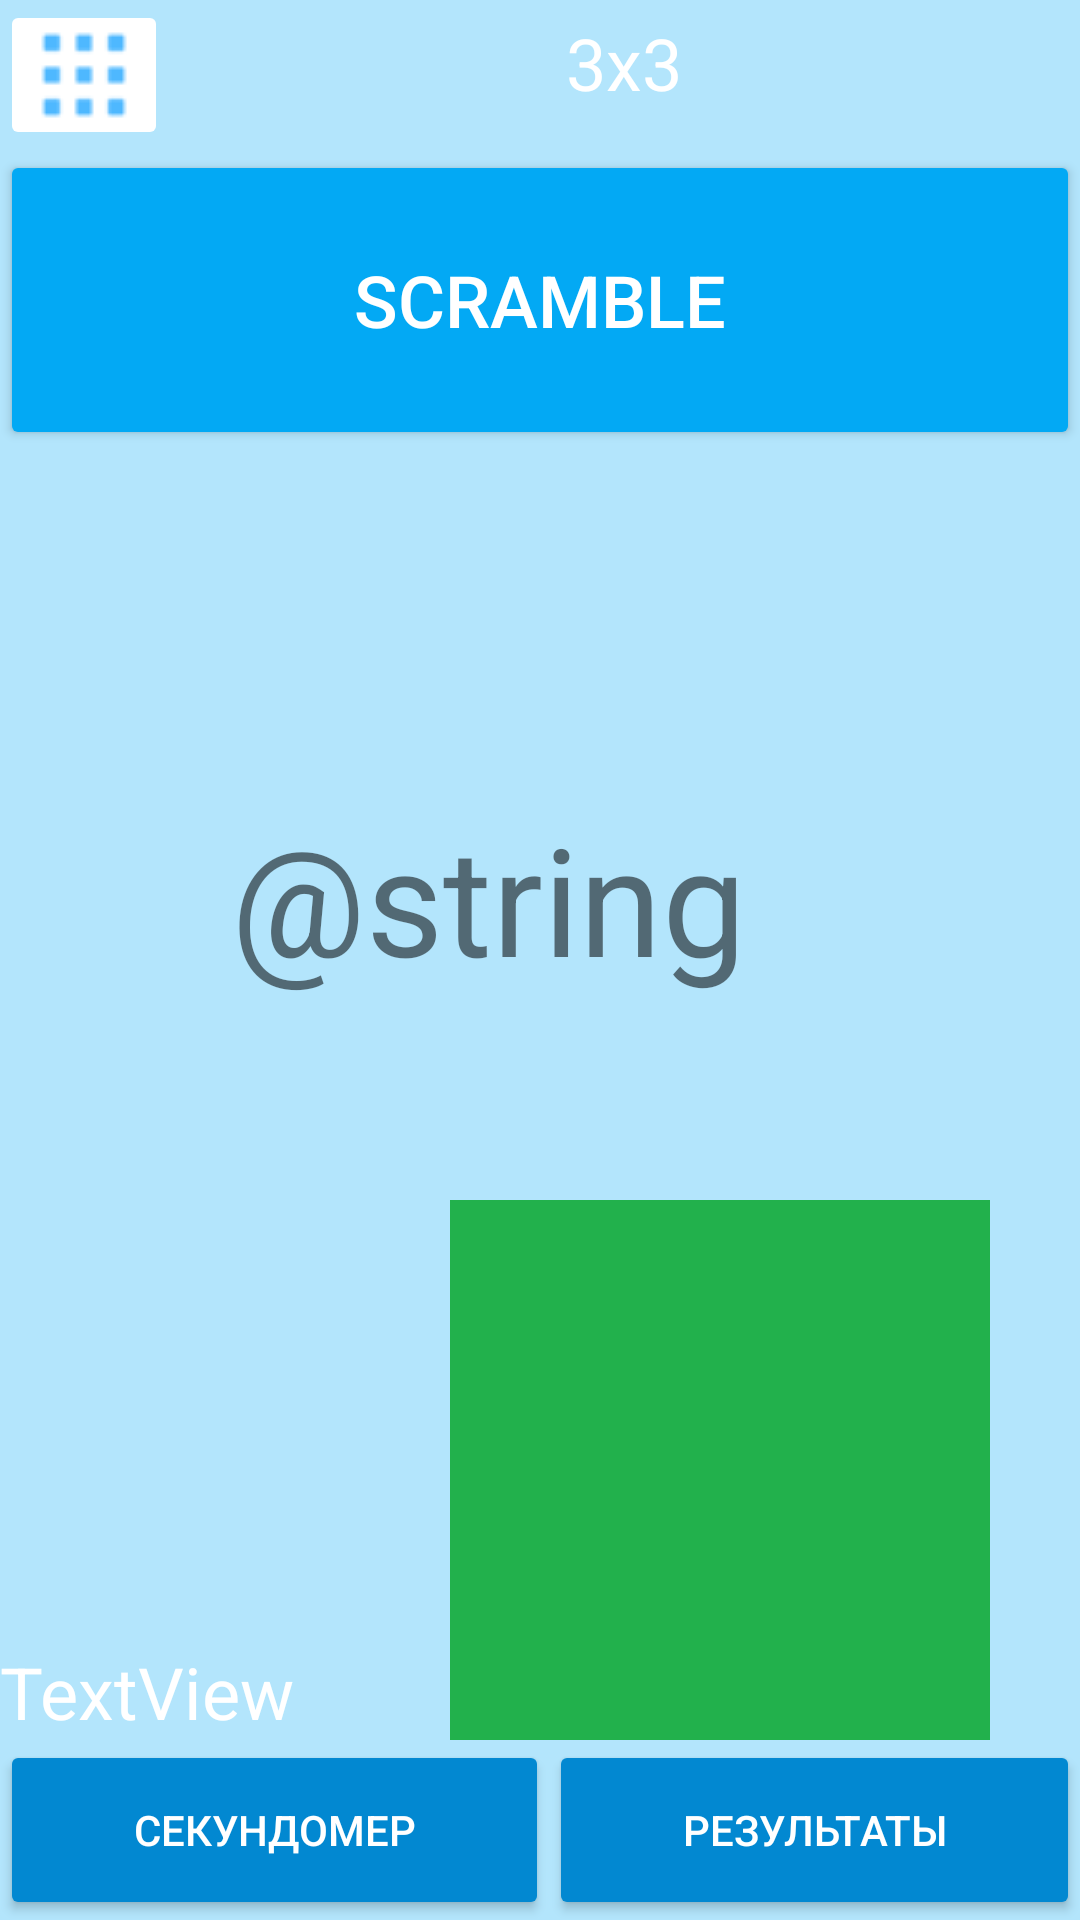

Locate icon controls on the screen. Image size 1080w x 1920h, boxes as Rect(x1, y1, x2, y2).
menu: Rect(12, 18, 156, 132)
